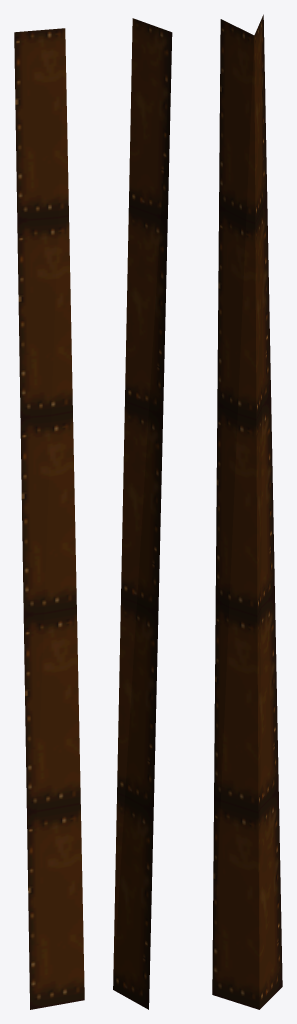
File: Stütze_GeradeHell2_893.glb
3 views of the same model, side by side, from view 1: azimuth 30°, elevation 25°; view 2: azimuth 210°, elevation 25°; view 3: azimuth 330°, elevation 25° (orthographic).
Parts seen in each view (by area): view 1: pPlaneShape70; view 2: pPlaneShape70; view 3: pPlaneShape70.
Boxes of the visible parts, bbox=[...] form: pPlaneShape70: bbox=[14, 28, 84, 1009]; pPlaneShape70: bbox=[113, 18, 172, 1009]; pPlaneShape70: bbox=[212, 14, 282, 1009].
Size of the model in its own units: 0.0591 by 1 by 0.059.
1 material, 1 textured.
